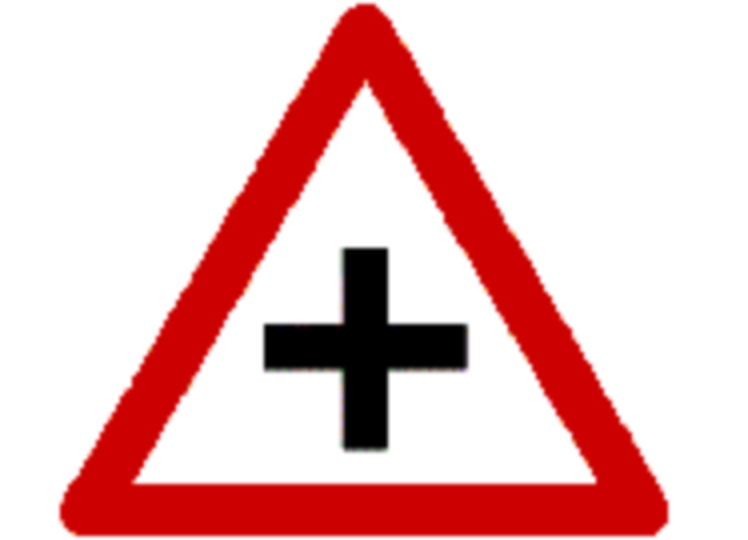Fork_road: (68, 3, 696, 540)
